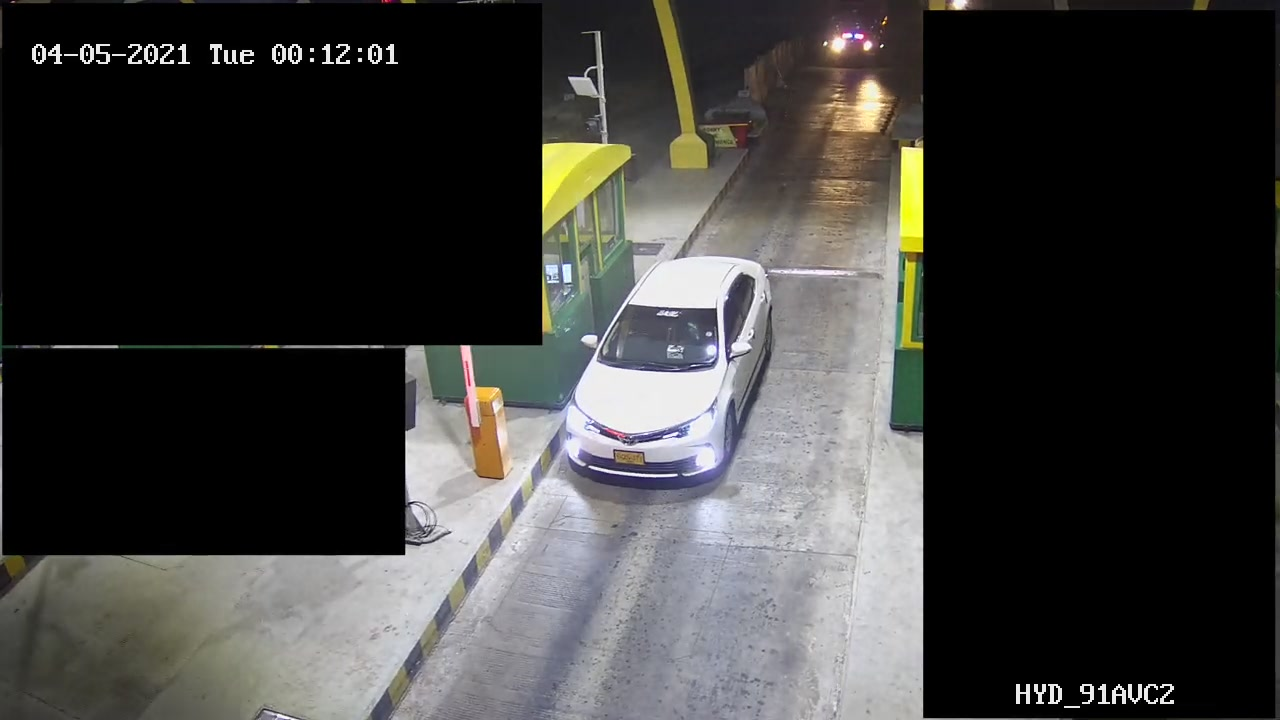F1: (552, 248, 787, 490)
